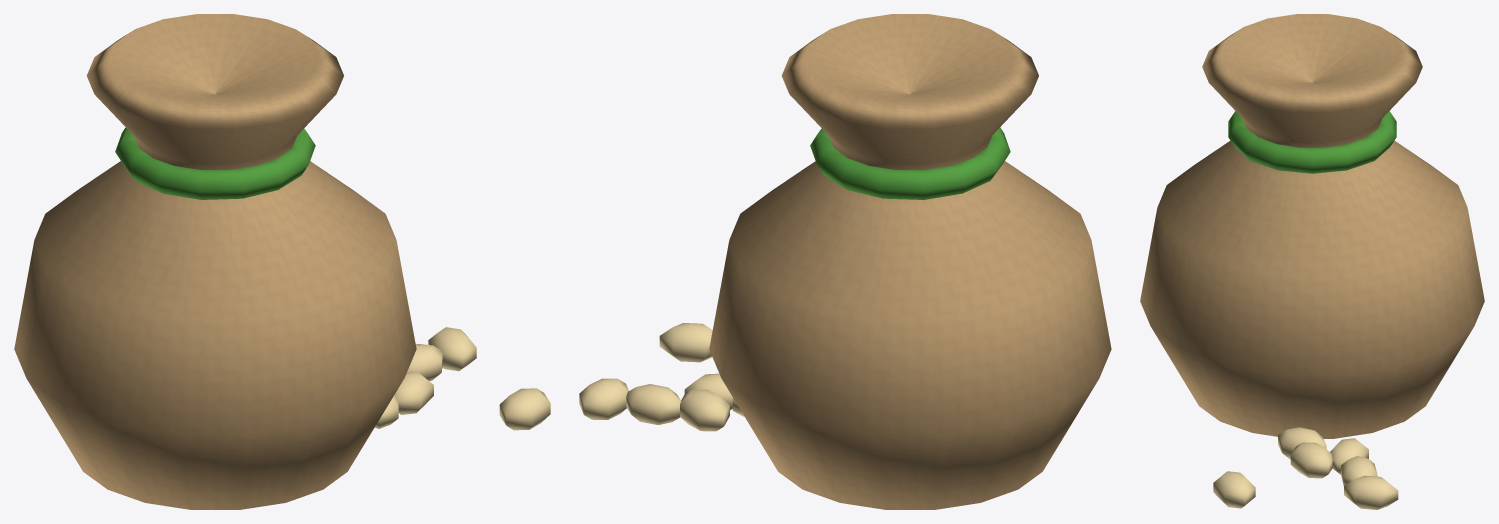
File: seeds.glb
The picture shows the model from 3 angles, left to right: view 1: azimuth 30°, elevation 25°; view 2: azimuth 150°, elevation 25°; view 3: azimuth 270°, elevation 25°; orthographic projection. The views are drawn at different scales.
Visible parts, largest first — view 1: seeds; view 2: seeds; view 3: seeds.
Boxes of the visible parts, x1,y1,x2,y2 form: seeds: (14, 14, 550, 509); seeds: (579, 14, 1111, 509); seeds: (1140, 14, 1484, 509).
Bounding box in the file's own units: 0.1327 × 0.11 × 0.1.
3 materials, 1 textured.
